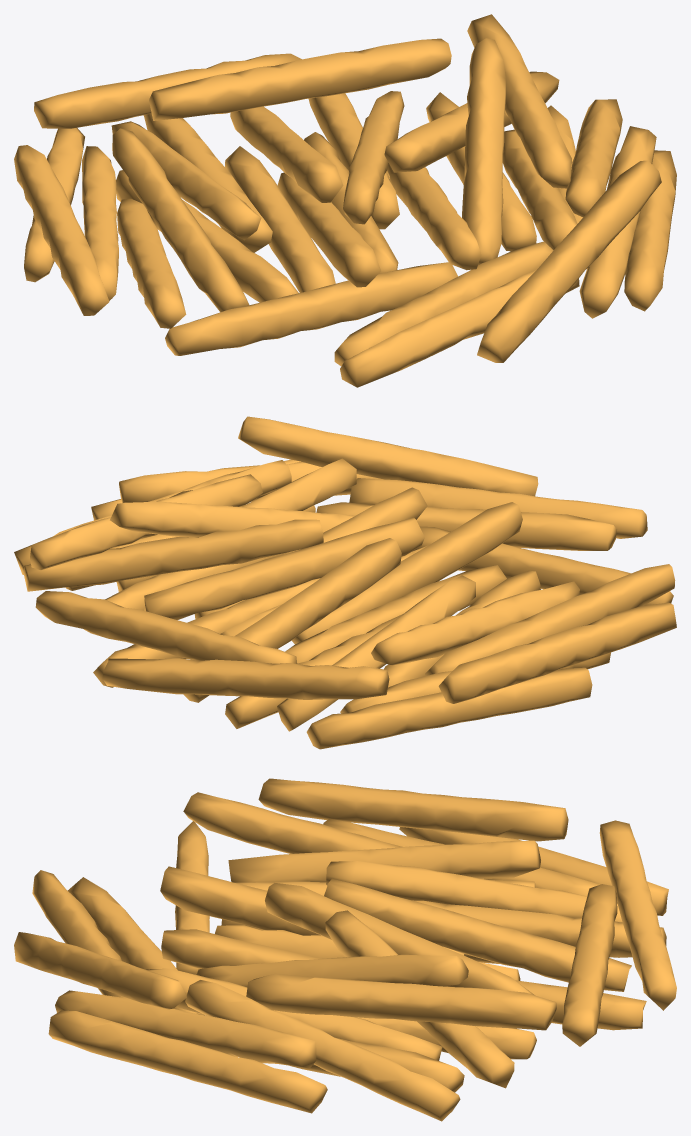
File: Fries.fbx
3 renders of one model, top to bottom at view 1: azimuth 30°, elevation 25°; view 2: azimuth 150°, elevation 25°; view 3: azimuth 270°, elevation 25°, orthographic. The views are drawn at different scales.
Parts seen in each view (by area): view 1: CookedFries; view 2: CookedFries; view 3: CookedFries.
Boxes of the visible parts, left/top/right/bottom form: CookedFries: left=14, top=14, right=676, bottom=387; CookedFries: left=14, top=416, right=676, bottom=749; CookedFries: left=14, top=778, right=676, bottom=1121.
Size of the model in its own units: 60.99 by 10.59 by 57.56.
